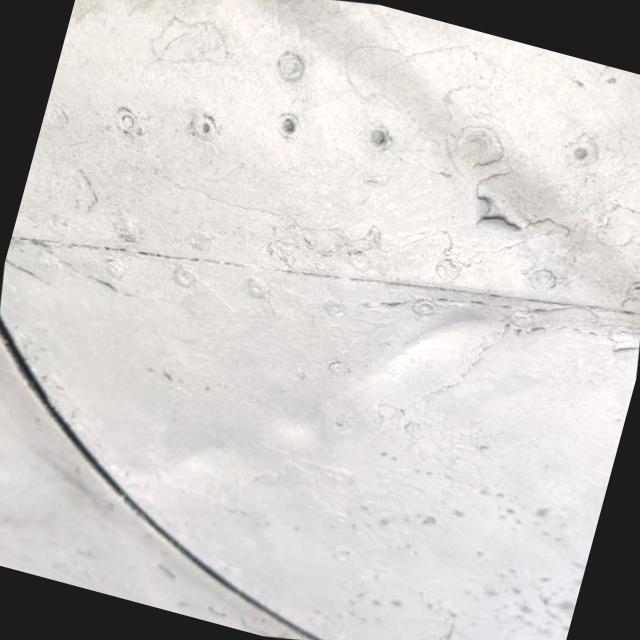dent: (332, 284, 504, 425), (148, 398, 262, 506)
